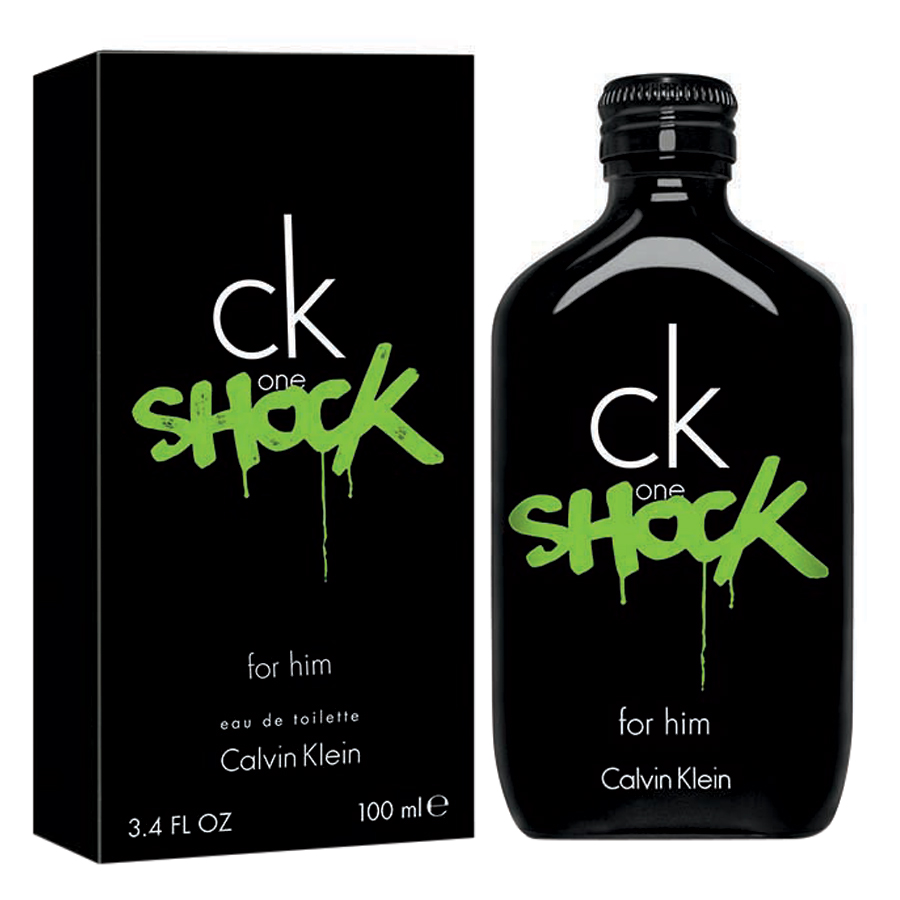Calvin Klein: (591, 315, 733, 474), (209, 211, 354, 365), (593, 757, 740, 802), (218, 739, 369, 774)
